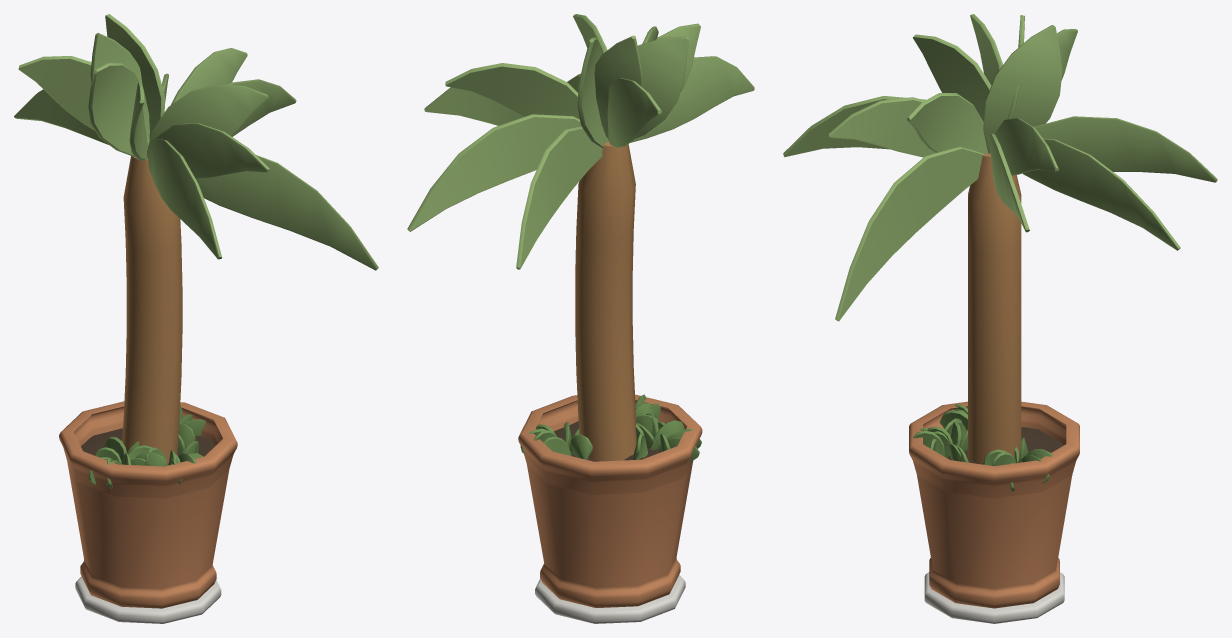
Rendered from sujet_palmier.glb.
The picture shows the model from 3 angles, left to right: view 1: azimuth 30°, elevation 25°; view 2: azimuth 150°, elevation 25°; view 3: azimuth 270°, elevation 25°; orthographic projection. The views are drawn at different scales.
Parts seen in each view (by area): view 1: SUC_Feuille_Clair, SUC_Pot_Terracotta, SUC_Bois, SUC_Feuille_Moyen, SUC_Embase, SUC_Terre; view 2: SUC_Feuille_Clair, SUC_Pot_Terracotta, SUC_Bois, SUC_Feuille_Moyen, SUC_Embase; view 3: SUC_Feuille_Clair, SUC_Pot_Terracotta, SUC_Bois, SUC_Feuille_Moyen, SUC_Embase, SUC_Terre.
Boxes of the visible parts, bbox=[...] form: SUC_Feuille_Clair: bbox=[14, 14, 378, 270]; SUC_Pot_Terracotta: bbox=[59, 401, 237, 608]; SUC_Bois: bbox=[122, 156, 182, 463]; SUC_Feuille_Moyen: bbox=[88, 404, 205, 488]; SUC_Embase: bbox=[75, 576, 221, 623]; SUC_Terre: bbox=[81, 428, 214, 465]; SUC_Feuille_Clair: bbox=[407, 14, 754, 269]; SUC_Pot_Terracotta: bbox=[518, 394, 702, 607]; SUC_Bois: bbox=[575, 141, 636, 461]; SUC_Feuille_Moyen: bbox=[520, 394, 701, 462]; SUC_Embase: bbox=[535, 575, 685, 623]; SUC_Feuille_Clair: bbox=[783, 14, 1217, 321]; SUC_Pot_Terracotta: bbox=[909, 401, 1079, 608]; SUC_Bois: bbox=[968, 153, 1021, 464]; SUC_Feuille_Moyen: bbox=[913, 404, 1052, 491]; SUC_Embase: bbox=[924, 572, 1064, 623]; SUC_Terre: bbox=[947, 427, 1063, 463].
Size of the model in its own units: 0.8979 by 1.9 by 1.33.
